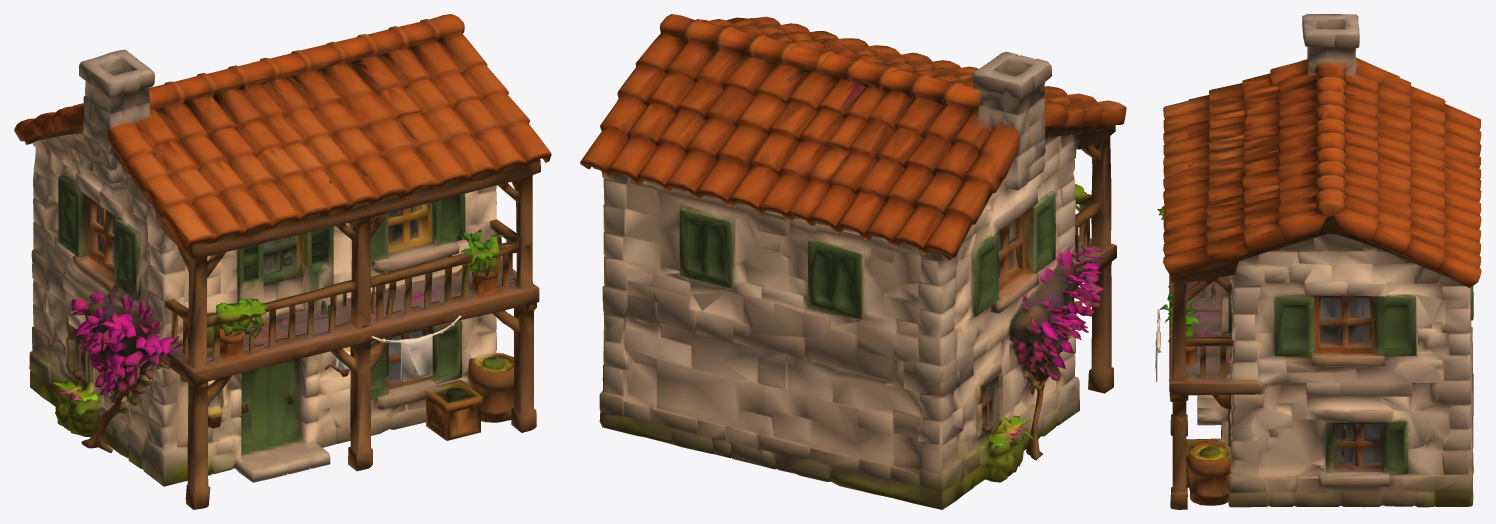
Rendered from Piece01.fbx.
The picture shows the model from 3 angles, left to right: view 1: azimuth 30°, elevation 25°; view 2: azimuth 150°, elevation 25°; view 3: azimuth 270°, elevation 25°; orthographic projection. The views are drawn at different scales.
Parts seen in each view (by area): view 1: Piece01; view 2: Piece01; view 3: Piece01.
Boxes of the visible parts, bbox=[...] form: Piece01: bbox=[14, 14, 551, 509]; Piece01: bbox=[580, 14, 1126, 509]; Piece01: bbox=[1155, 14, 1481, 509].
Size of the model in its own units: 99.99 by 91.55 by 79.14.
Materials: 1 (1 with a texture image).
